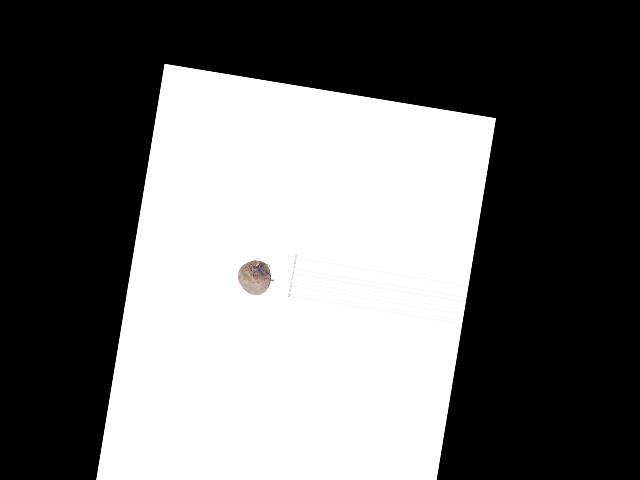beet: (235, 258, 273, 298)
